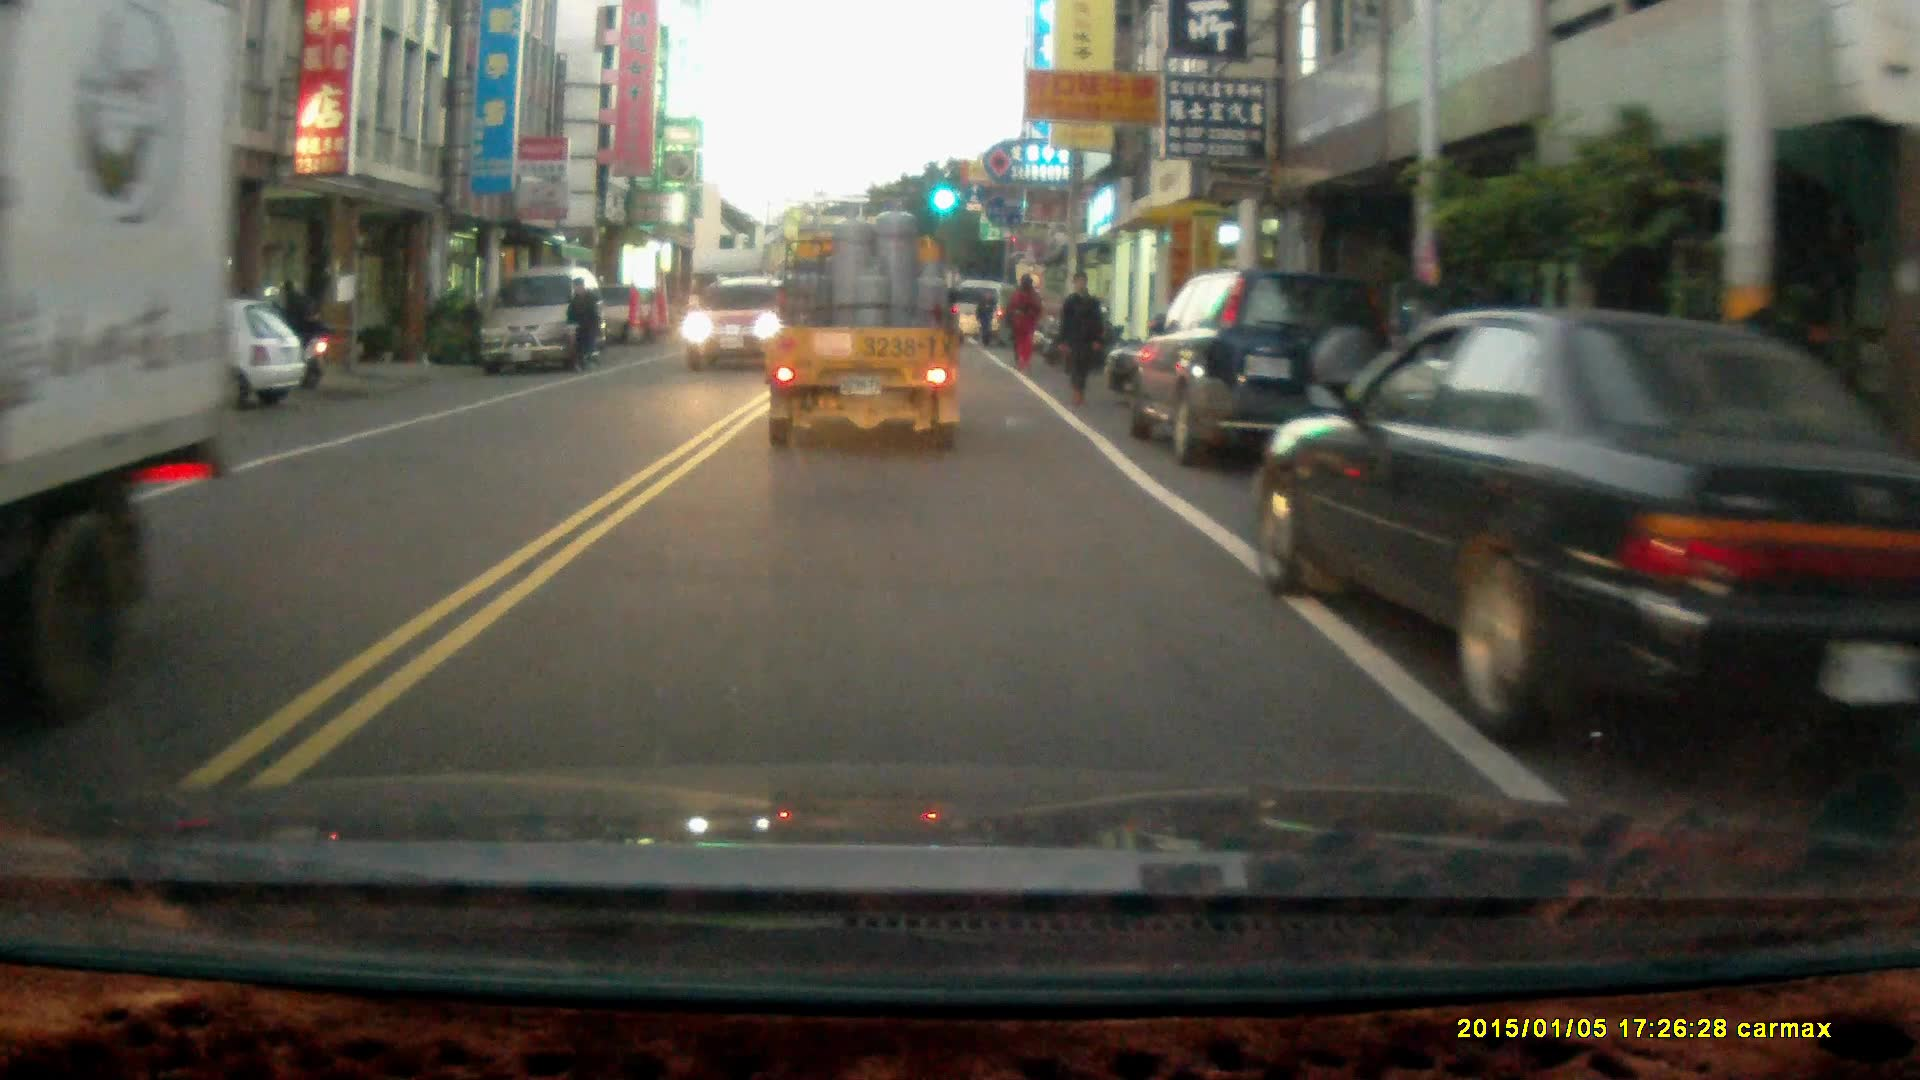pedestrian: (1053, 264, 1107, 406), (560, 275, 602, 368), (1003, 274, 1040, 372), (975, 287, 998, 344)
rider: (242, 281, 329, 394)
vehicle: (1253, 306, 1898, 756), (1, 11, 242, 731), (764, 195, 966, 457), (1131, 266, 1394, 467), (480, 266, 605, 374), (680, 278, 782, 372)
